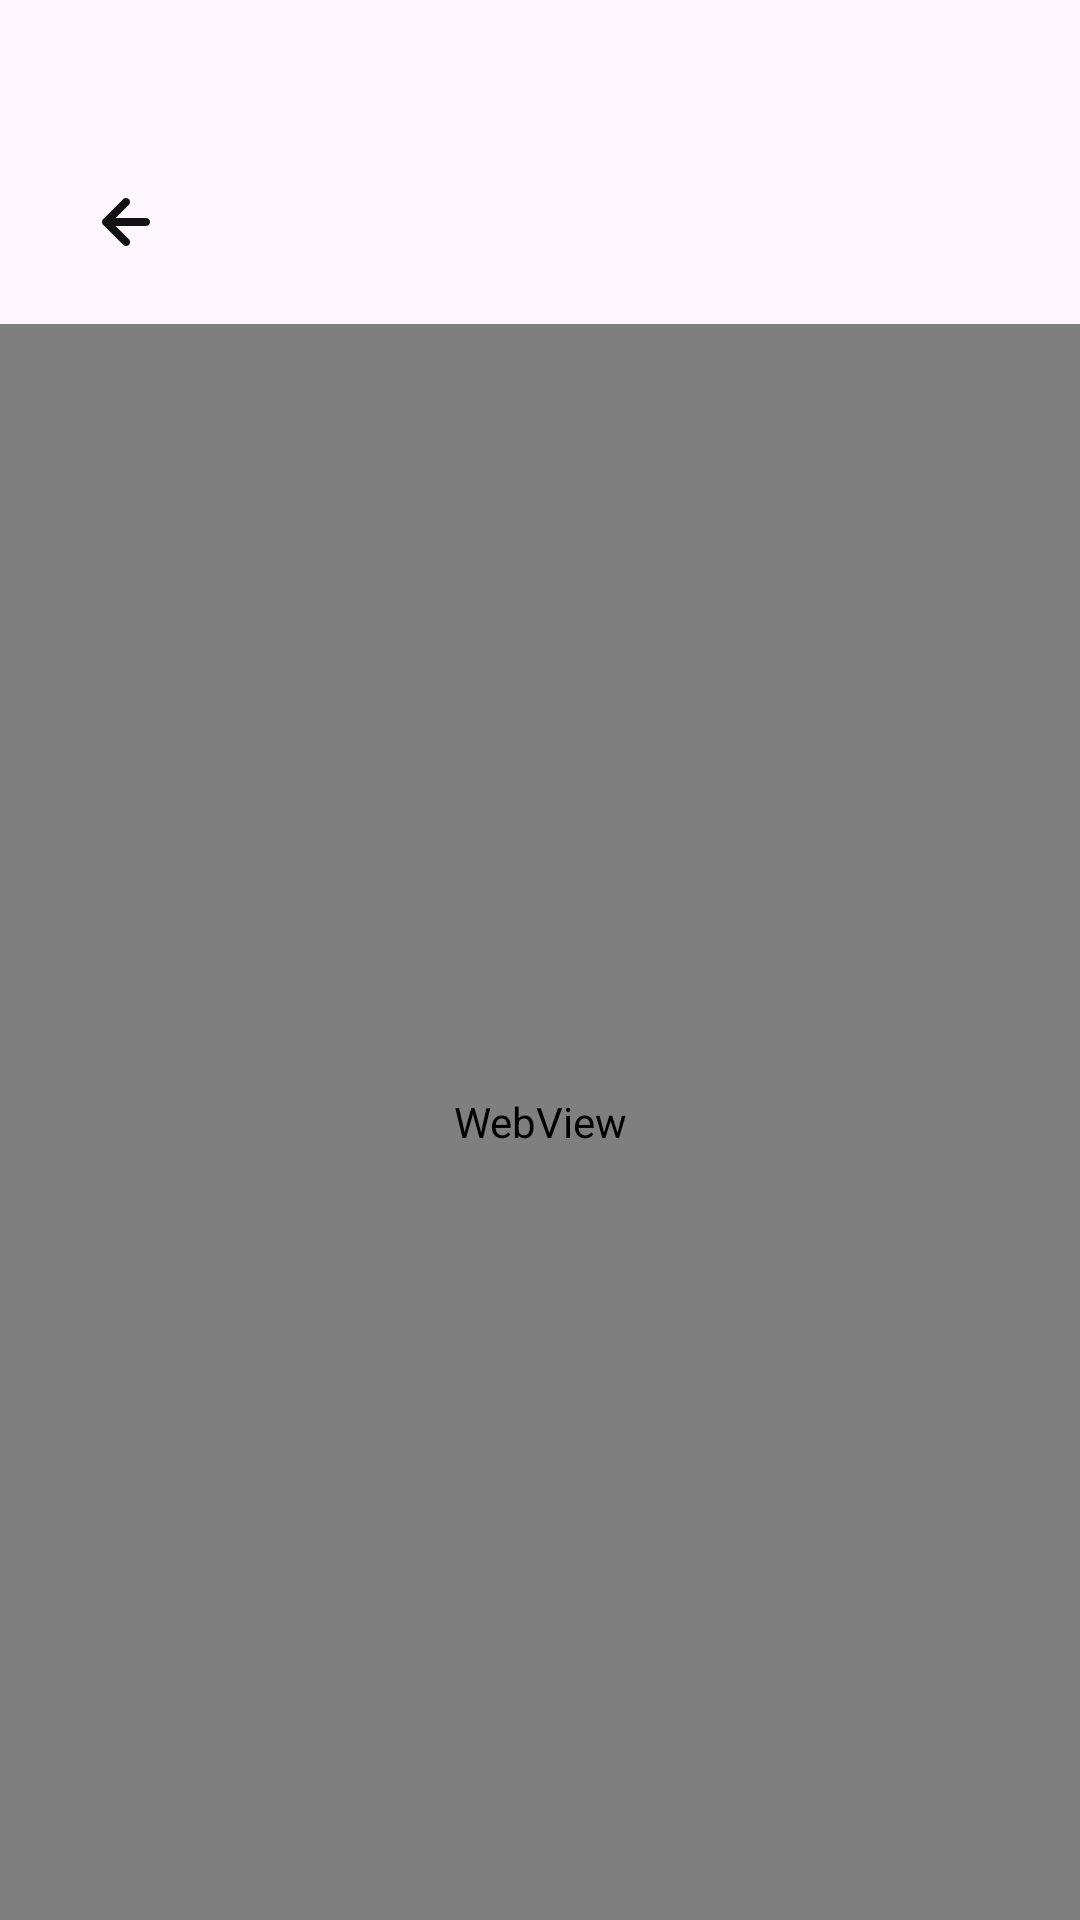

Where icons sit on this 1080x1920 app screen, as [x1, y1, x2, y2]:
back: [102, 198, 150, 246]
